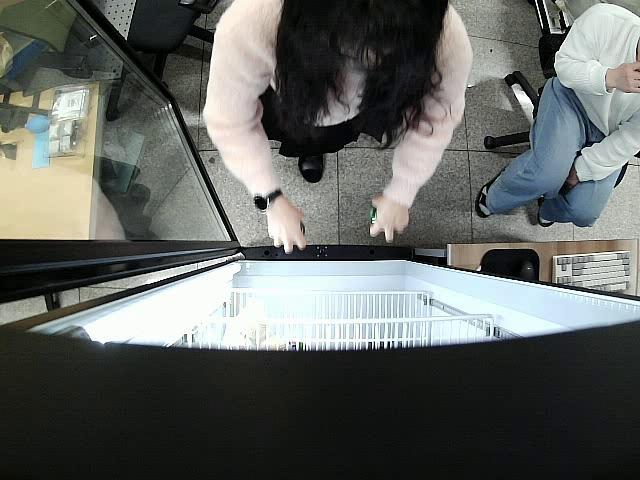12_chilsungCider: (369, 206, 377, 224)
